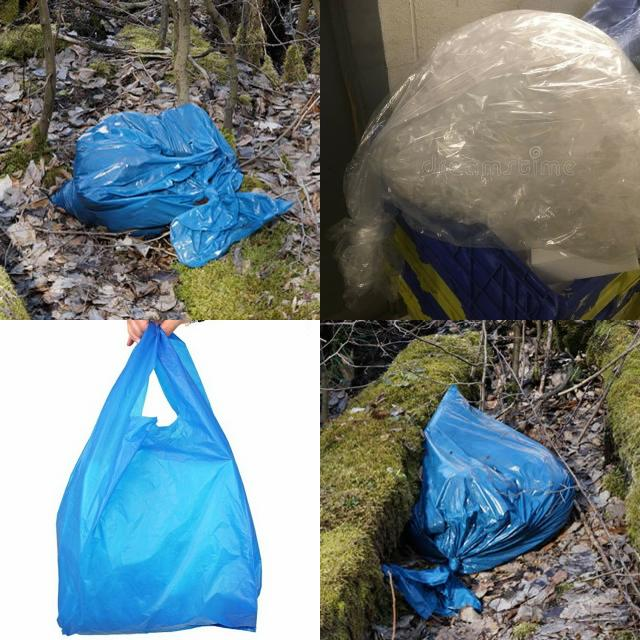Single-layer Plastic: (336, 10, 640, 309), (58, 324, 261, 634), (382, 386, 575, 619), (51, 104, 291, 266)
